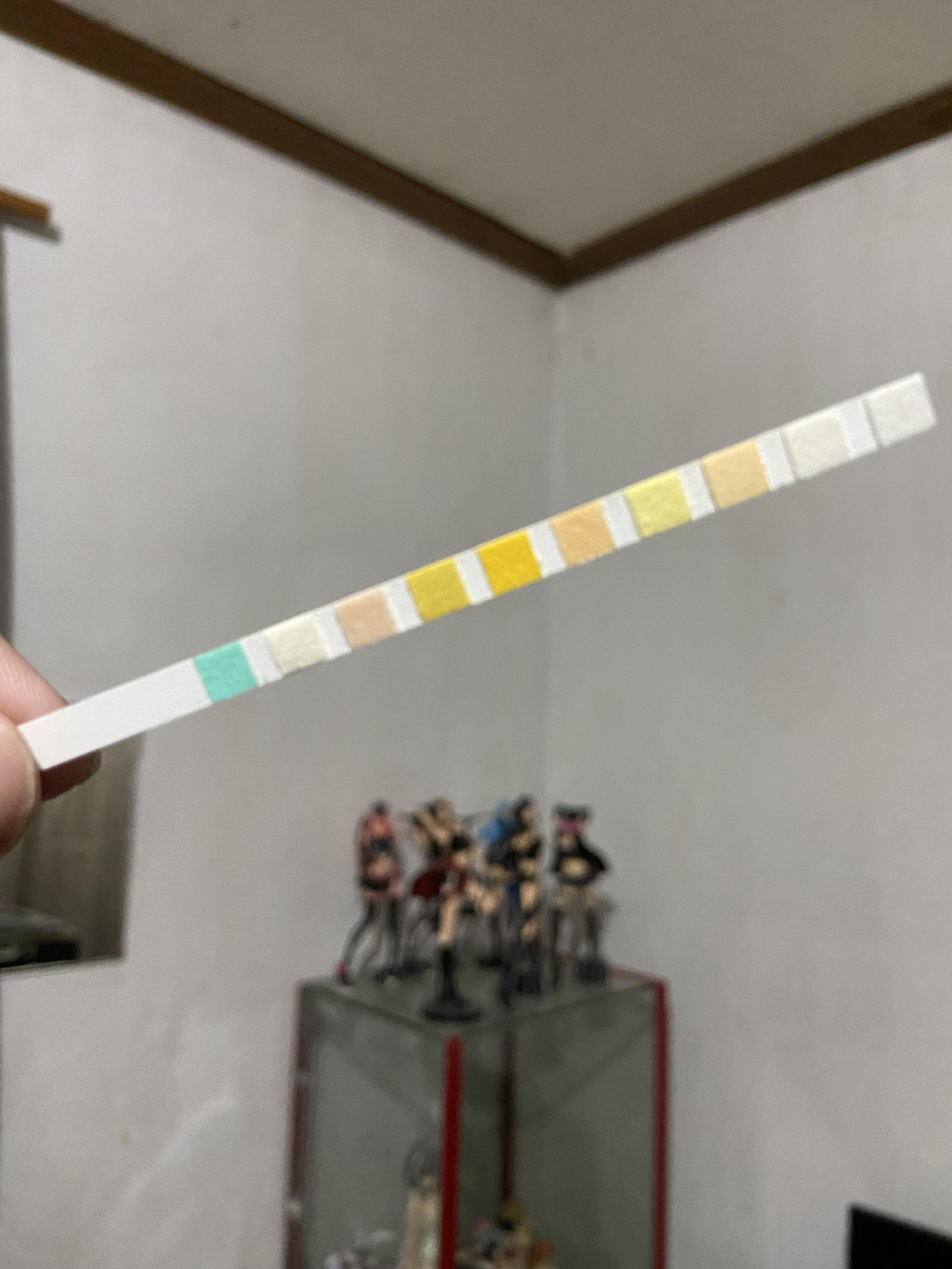Bilirubin: (280, 625, 316, 665)
Blood: (490, 545, 531, 581)
Glucose: (209, 653, 244, 693)
Ketone: (347, 604, 384, 639)
Leukocytes: (877, 393, 924, 430)
Nitrite: (795, 424, 834, 466)
Protein: (638, 486, 679, 526)
SpGravity: (420, 573, 455, 611)
Urobilinogen: (716, 453, 758, 496)
pH: (561, 516, 602, 555)
strip: (18, 373, 937, 771)
